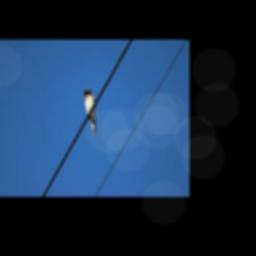Swallow: (83, 88, 97, 136)
